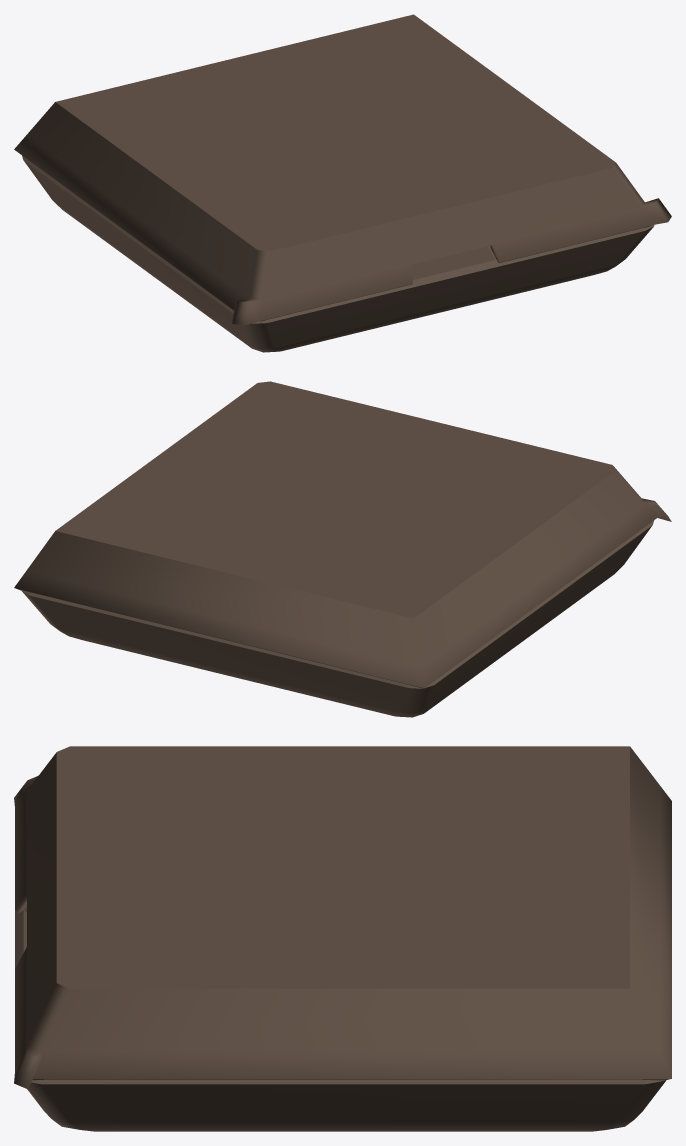
File: HSP.fbx
3 views of the same model, one above another, from view 1: azimuth 30°, elevation 25°; view 2: azimuth 150°, elevation 25°; view 3: azimuth 270°, elevation 25° (orthographic). The views are drawn at different scales.
Parts seen in each view (by area): view 1: HSP_bOX; view 2: HSP_bOX; view 3: HSP_bOX.
Part boxes in pixels (box(x1,y1,x2,y2)): HSP_bOX: box(14, 14, 671, 352); HSP_bOX: box(14, 381, 671, 717); HSP_bOX: box(14, 746, 671, 1131).
Bounding box in the file's own units: 16.3 × 3.83 × 15.23.
